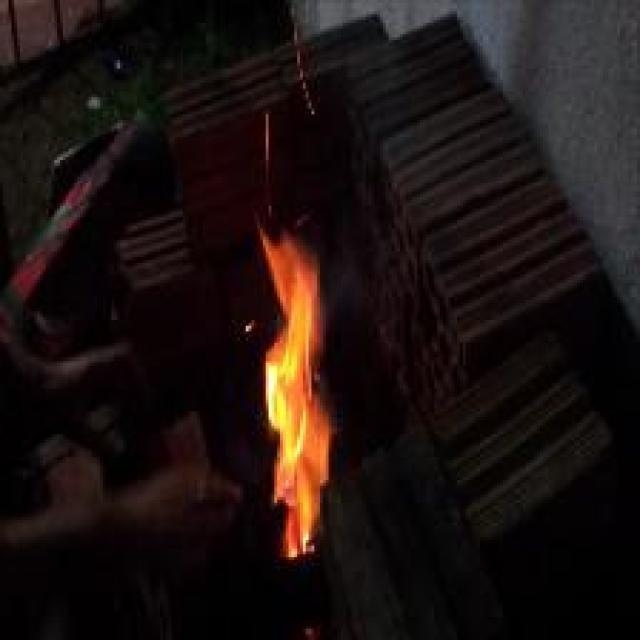fire: (198, 194, 369, 573)
